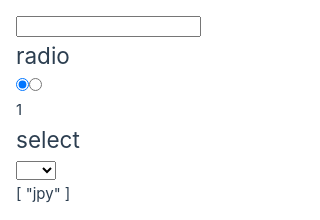
Scenario: Form › radio
This screenshot has width=320, height=220.
Click the radio button with test id "radio-2" at (36, 84), box x1=29 y1=78 x2=42 y2=91
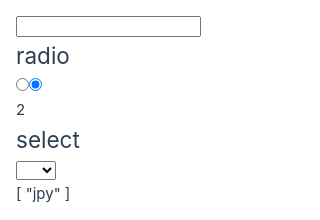
Expected: the text "2" is shown, x1=16 y1=100 x2=25 y2=119
